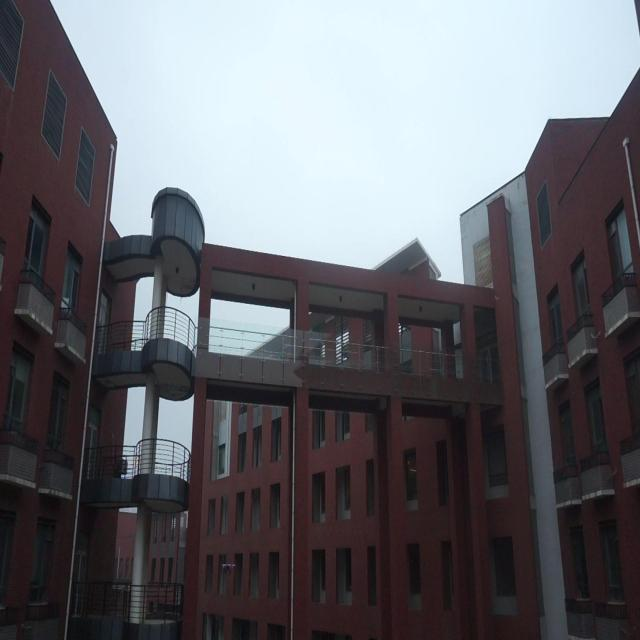drone: (221, 558, 240, 576)
